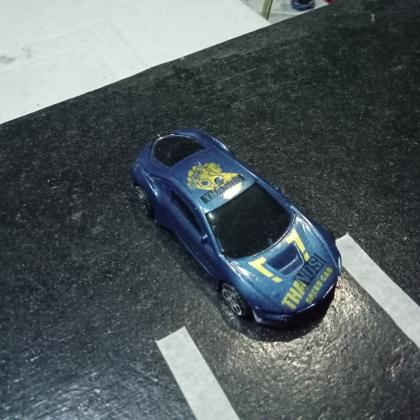Car: (128, 128, 344, 329)
